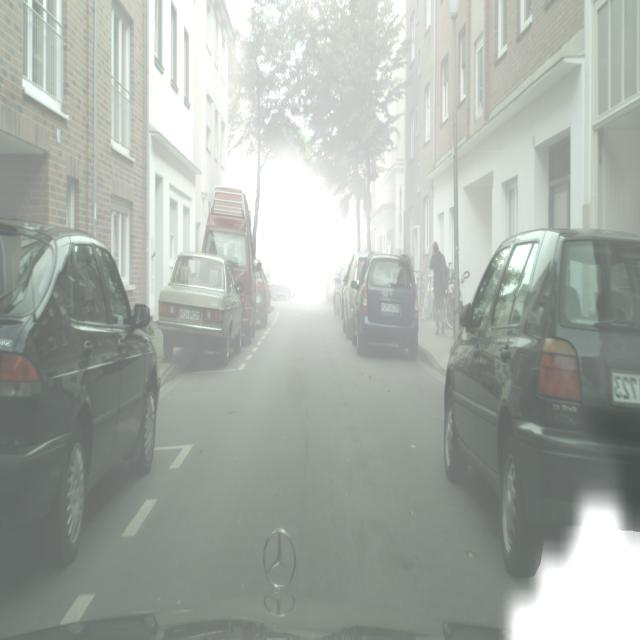bus: (446, 266, 471, 331)
person: (429, 241, 448, 334)
train: (201, 186, 257, 344), (273, 246, 298, 295)
truck: (443, 226, 639, 576), (0, 221, 160, 569), (158, 251, 242, 365), (351, 252, 419, 359), (340, 251, 371, 338), (254, 259, 270, 329), (269, 263, 293, 301), (326, 262, 344, 307), (318, 260, 331, 294)
